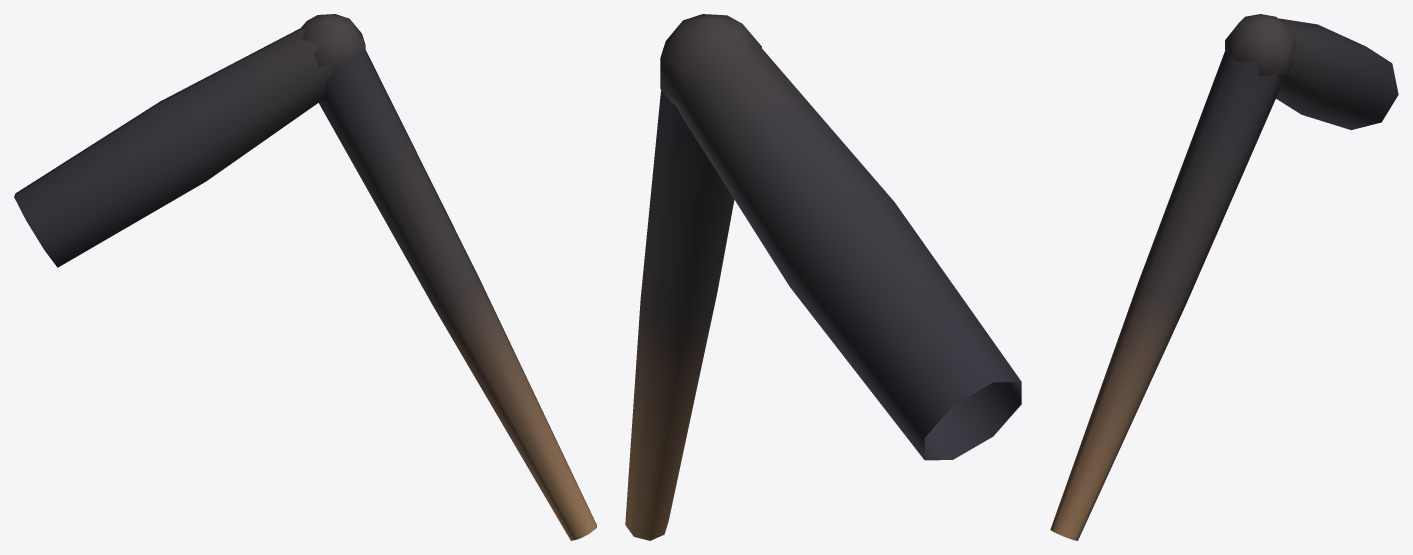
File: Shiomaneki_Leg4.fbx
3 views of the same model, side by side, from view 1: azimuth 30°, elevation 25°; view 2: azimuth 150°, elevation 25°; view 3: azimuth 270°, elevation 25° (orthographic). The views are drawn at different scales.
Visible parts, largest first — view 1: Shiomaneki_Leg4; view 2: Shiomaneki_Leg4; view 3: Shiomaneki_Leg4.
Boxes of the visible parts, x1,y1,x2,y2 form: Shiomaneki_Leg4: (14,14,596,540); Shiomaneki_Leg4: (625,14,1021,540); Shiomaneki_Leg4: (1050,14,1398,540).
Bounding box in the file's own units: 0.2837 × 0.3073 × 0.2128.
